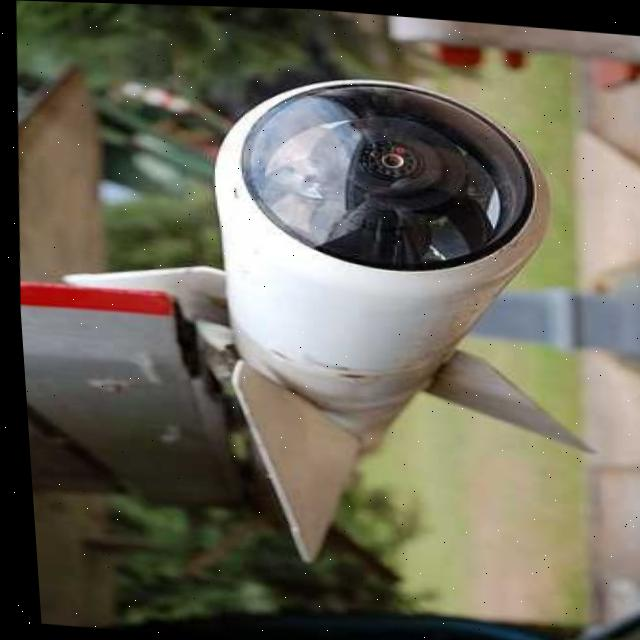missile: (32, 49, 618, 585)
